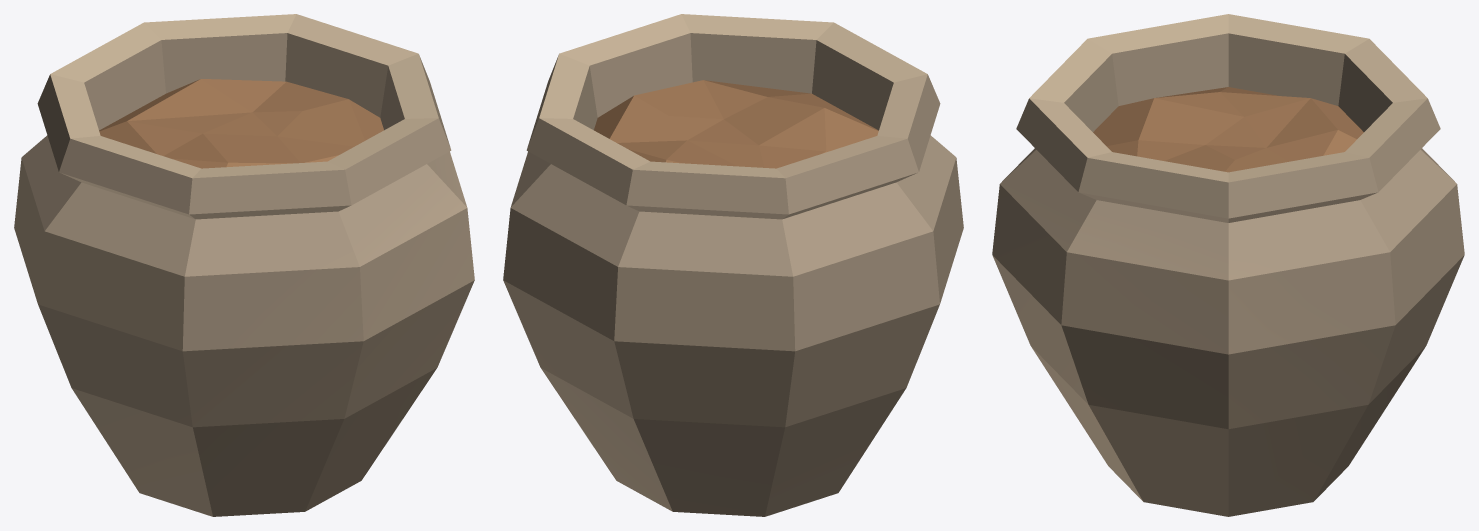
The model's file is SM_Env_Planter_Pot_06.fbx.
3 renders of one model, left to right at view 1: azimuth 30°, elevation 25°; view 2: azimuth 150°, elevation 25°; view 3: azimuth 270°, elevation 25°, orthographic.
Parts seen in each view (by area): view 1: SM_Env_Planter_Pot_06; view 2: SM_Env_Planter_Pot_06; view 3: SM_Env_Planter_Pot_06.
Part boxes in pixels (bbox=[...]): SM_Env_Planter_Pot_06: bbox=[14, 14, 474, 516]; SM_Env_Planter_Pot_06: bbox=[503, 14, 963, 516]; SM_Env_Planter_Pot_06: bbox=[992, 14, 1464, 516].
Size of the model in its own units: 0.5476 by 0.4703 by 0.5476.
1 material, 1 textured.
